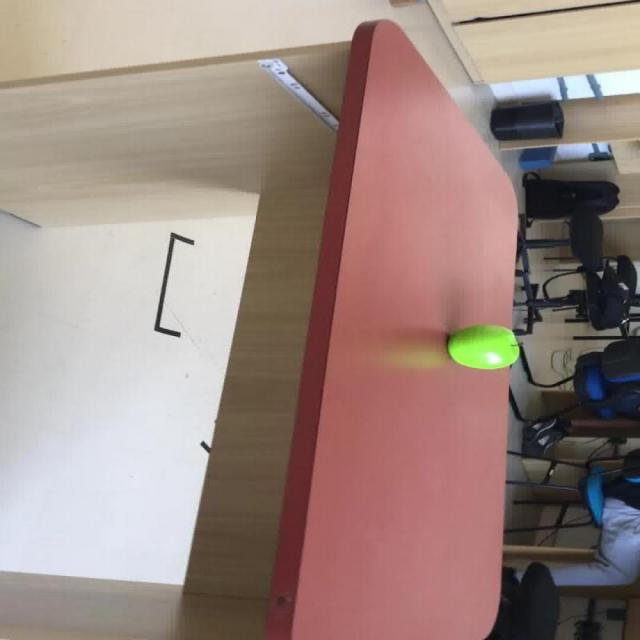Apple: (445, 324, 520, 369)
